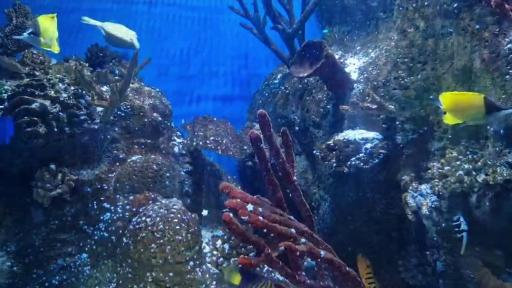Fish: (439, 91, 512, 125), (81, 16, 139, 50), (13, 14, 60, 53), (222, 267, 282, 288), (357, 254, 379, 288)
